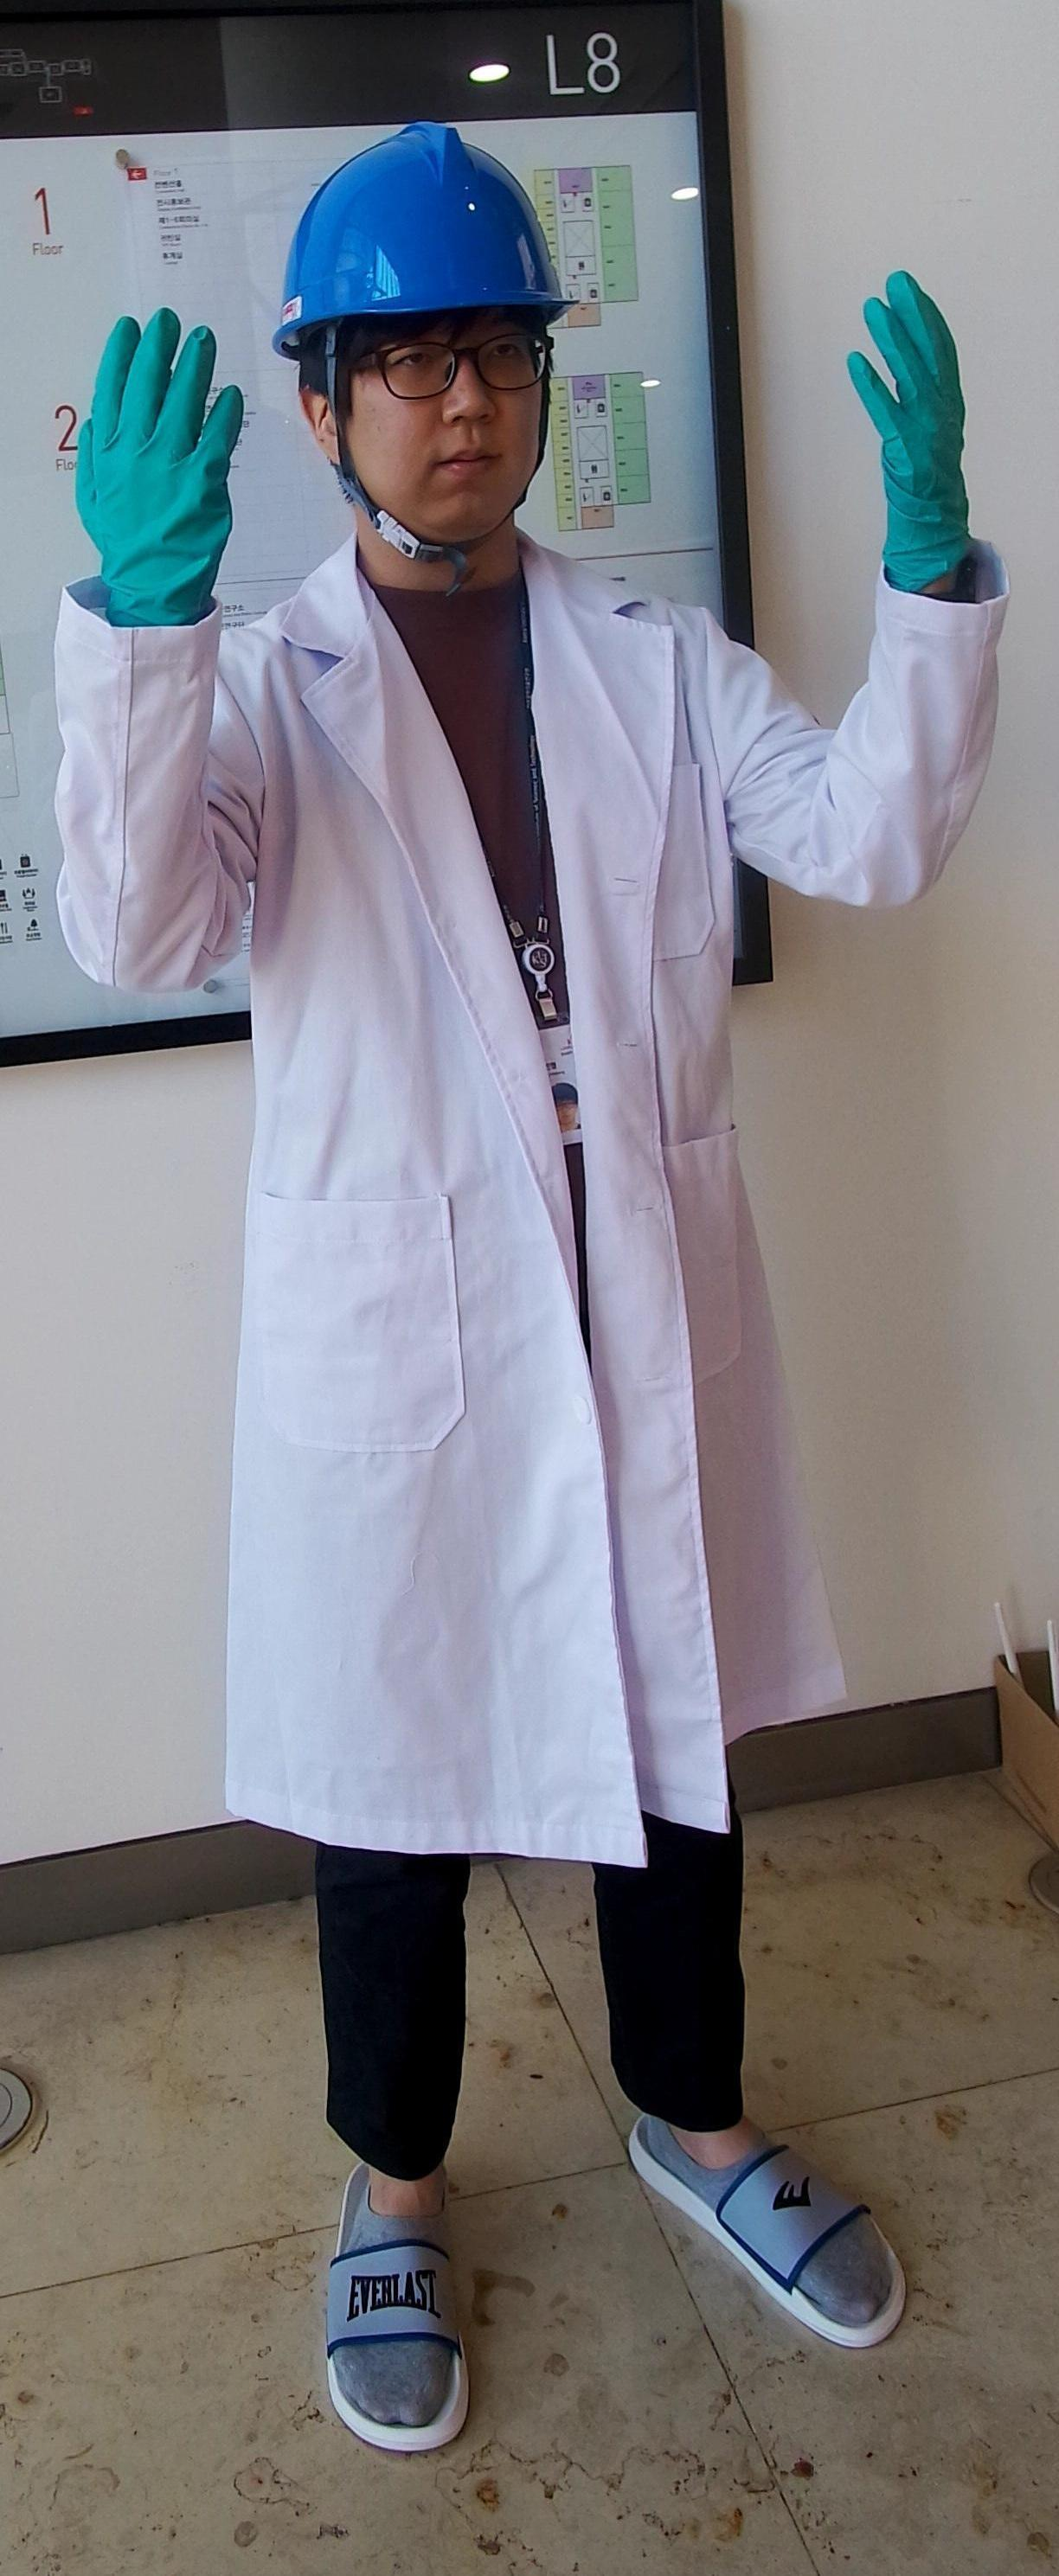lab_coat: (247, 555, 758, 1825)
